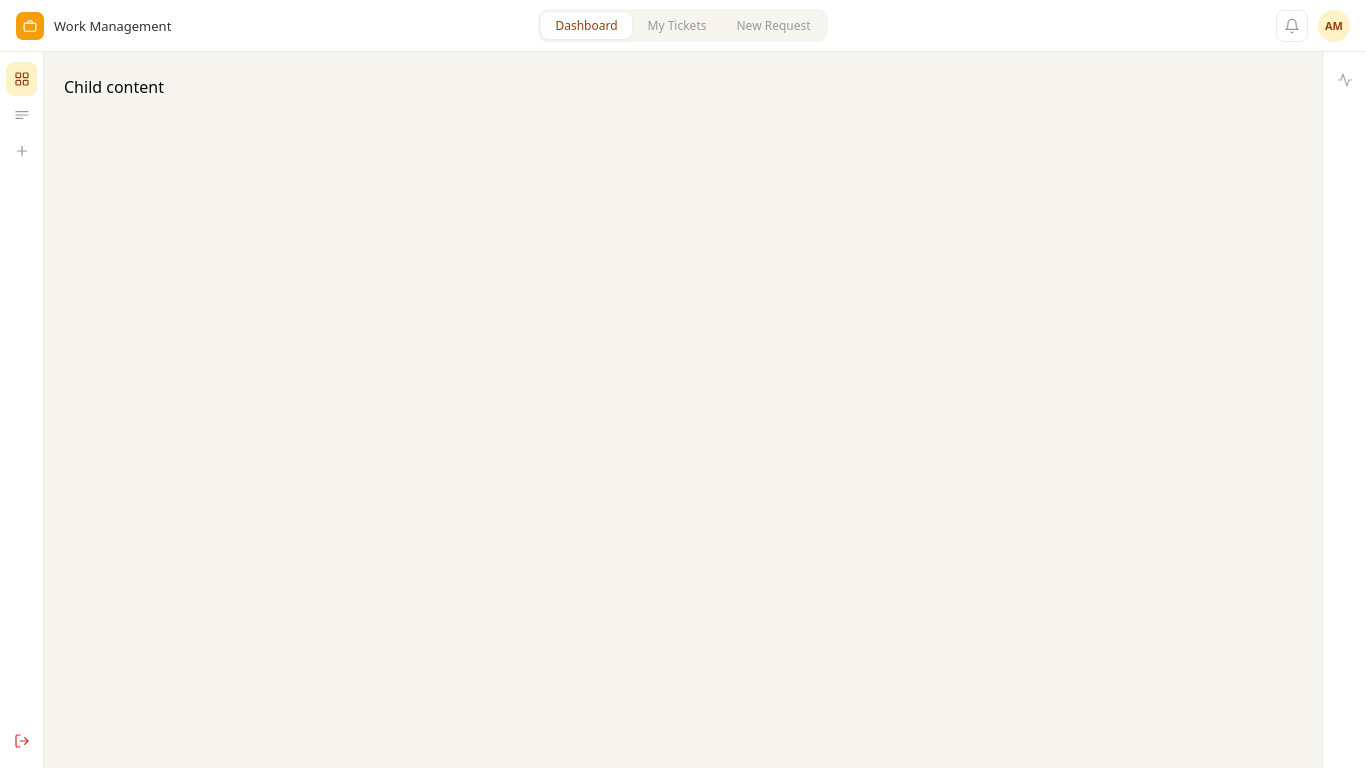
Test: AppShell › renders notification items when present in the activity panel
This screenshot has width=1366, height=768.
Hover over the element with class "right-panel".
mouse_move(1344, 410)  # box [1322, 52, 1365, 767]
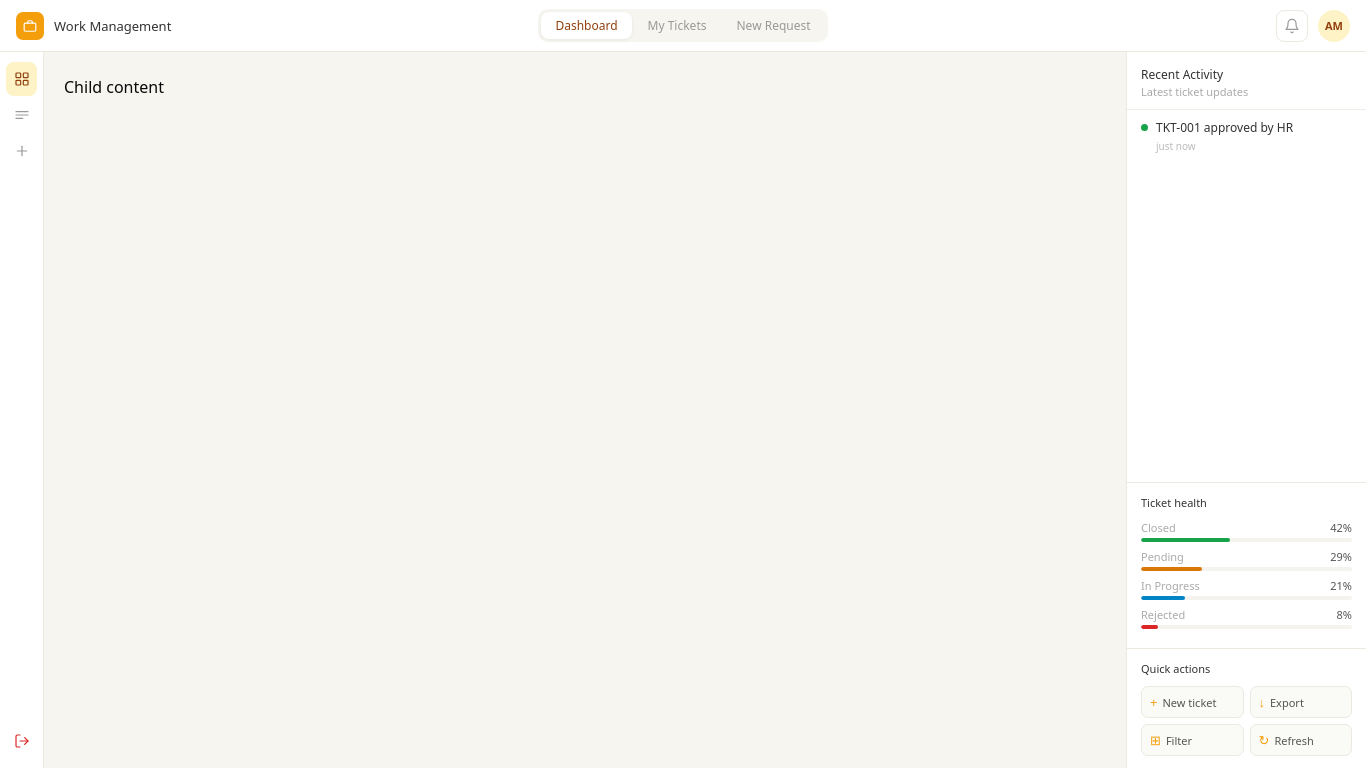
Check: the text "TKT-001 approved by HR" is shown, box [1156, 119, 1293, 136]
